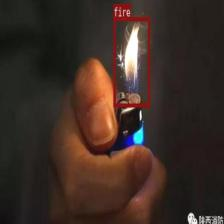fire: (113, 18, 150, 106)
